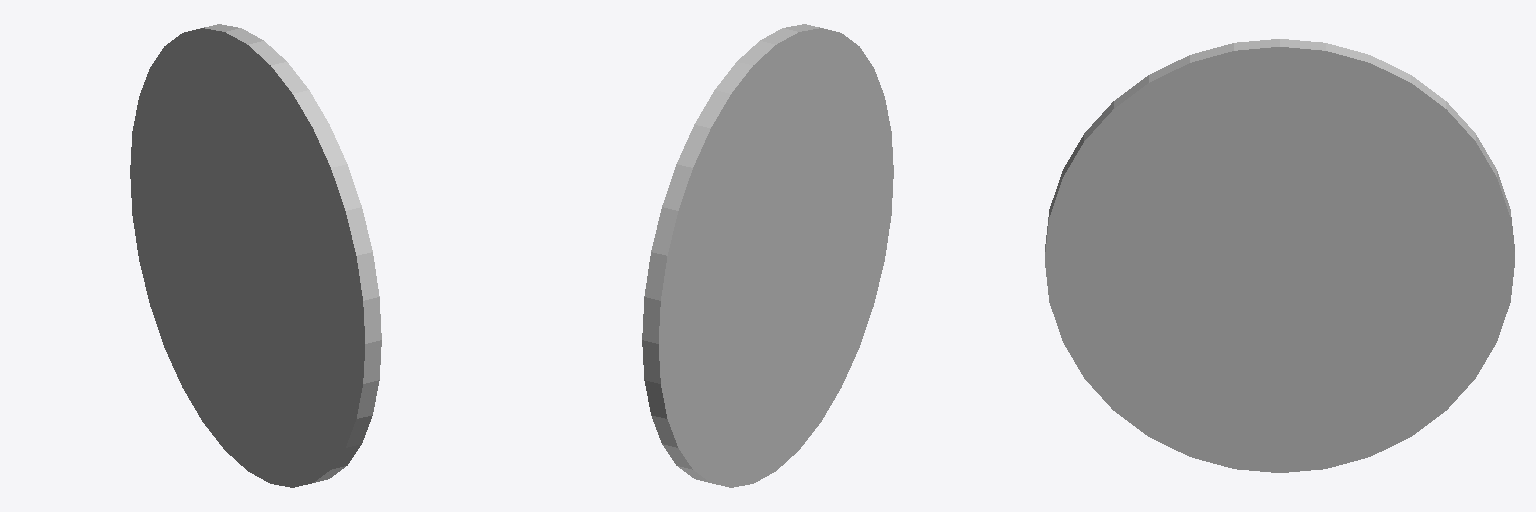
The model's file is Roue_1.obj.
3 renders of one model, left to right at view 1: azimuth 30°, elevation 25°; view 2: azimuth 150°, elevation 25°; view 3: azimuth 270°, elevation 25°, orthographic.
Parts seen in each view (by area): view 1: Roue_Roue_Plane.001; view 2: Roue_Roue_Plane.001; view 3: Roue_Roue_Plane.001.
Boxes of the visible parts, <box> form: Roue_Roue_Plane.001: <box>130,24,381,487</box>; Roue_Roue_Plane.001: <box>642,24,893,487</box>; Roue_Roue_Plane.001: <box>1045,39,1514,472</box>.
Size of the model in its own units: 0.2422 by 6 by 6.